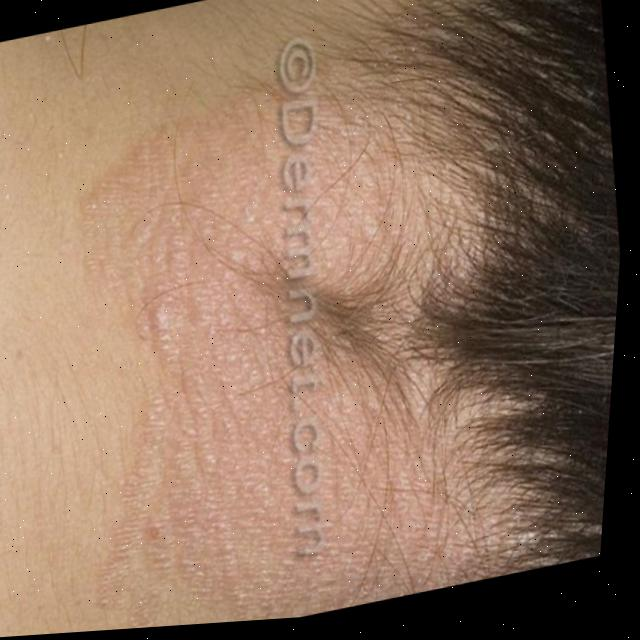Eczema: (50, 75, 528, 634)
